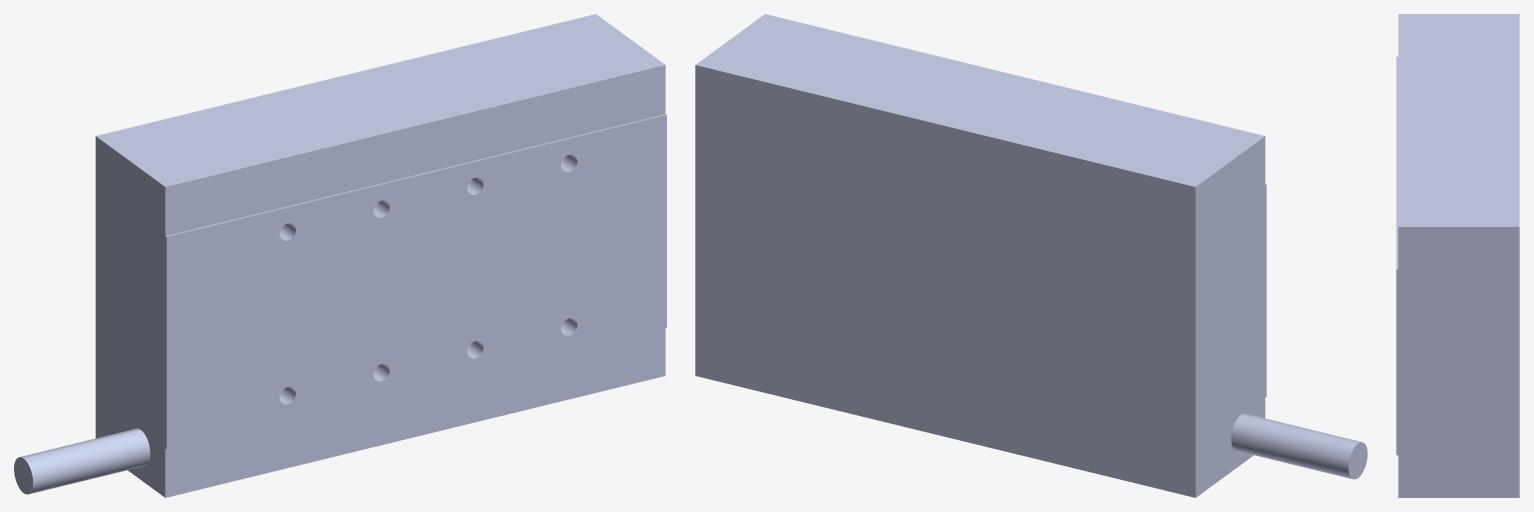
Rendered from MTB-6.glb.
The picture shows the model from 3 angles, left to right: view 1: azimuth 30°, elevation 25°; view 2: azimuth 150°, elevation 25°; view 3: azimuth 270°, elevation 25°; orthographic projection. The views are drawn at different scales.
Visible parts, largest first — view 1: MTB-6_node_1; view 2: MTB-6_node_1; view 3: MTB-6_node_1.
Part boxes in pixels (x1,y1,x2,y2): MTB-6_node_1: [14, 14, 666, 497]; MTB-6_node_1: [695, 14, 1367, 497]; MTB-6_node_1: [1396, 14, 1519, 497].
Bounding box in the file's own units: 158 × 76 × 31.4.
